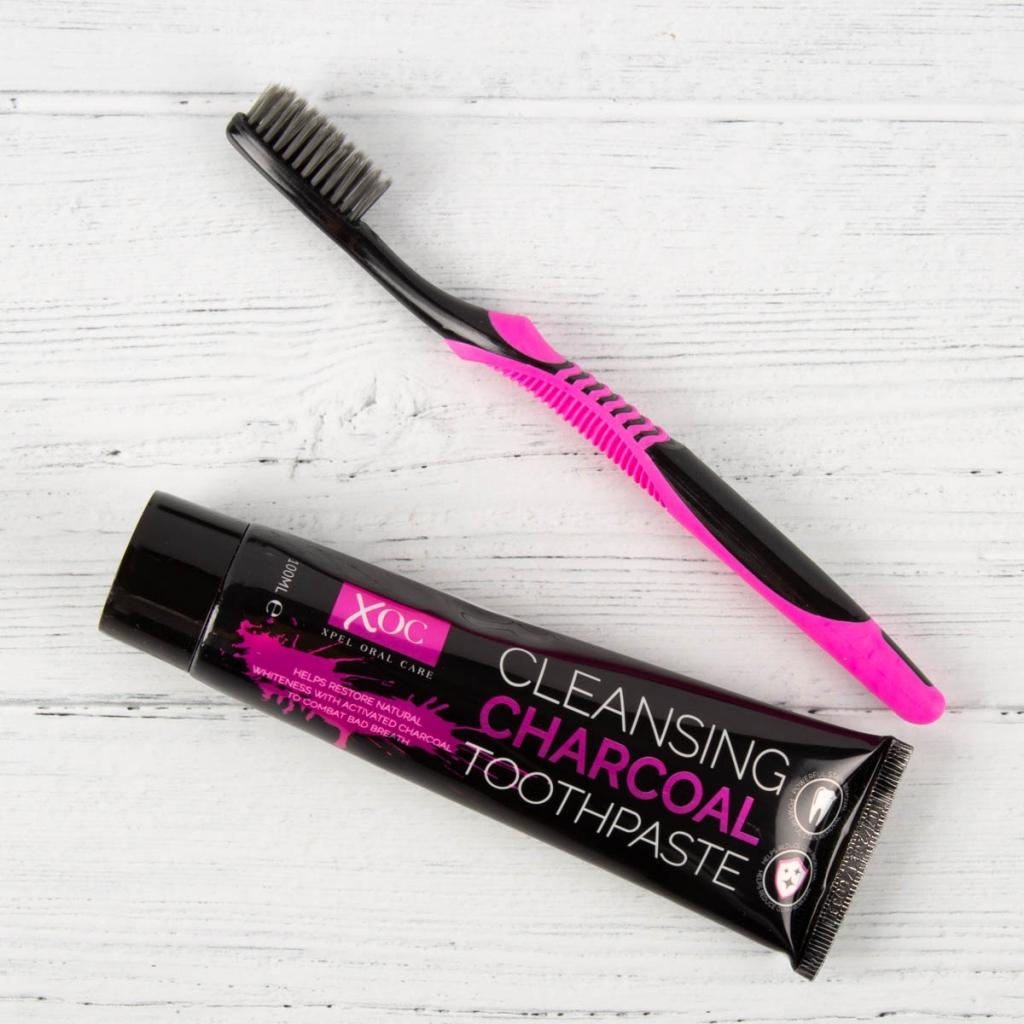toothpaste: (67, 467, 916, 988)
